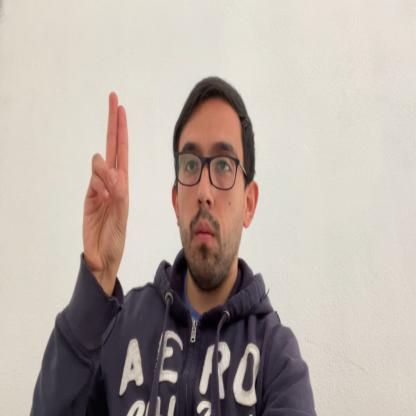U: (83, 91, 130, 287)
